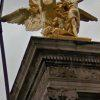Statue: (10, 3, 90, 56)
